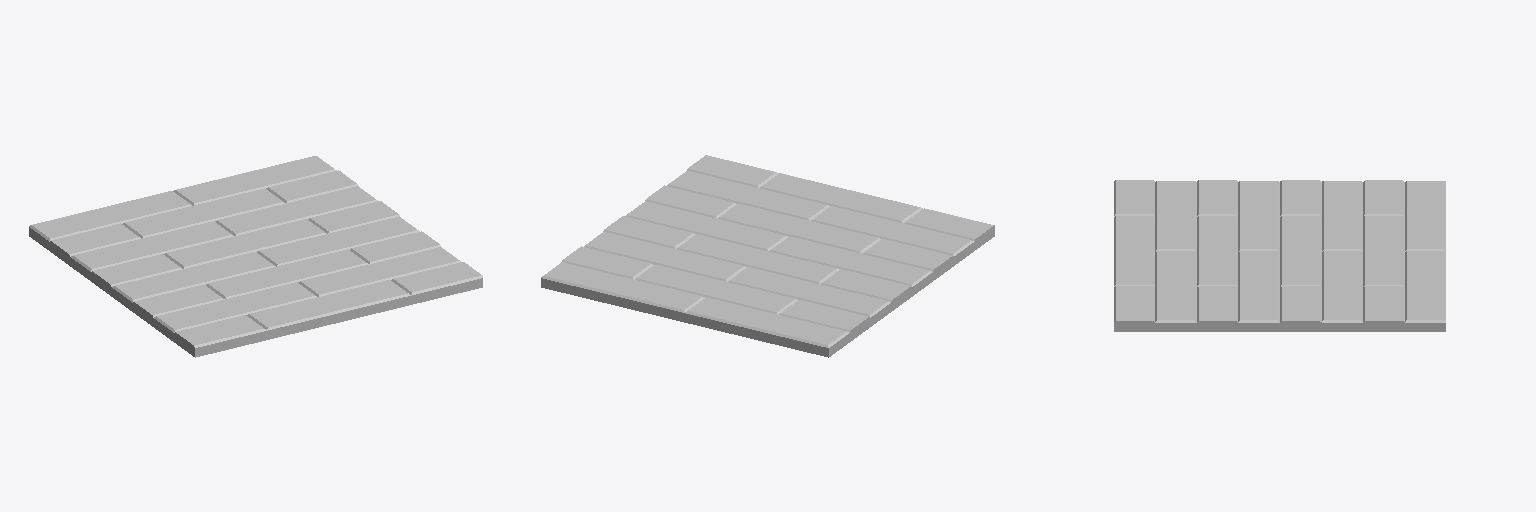
Rendered from floor_wood_large.obj.
3 views of the same model, side by side, from view 1: azimuth 30°, elevation 25°; view 2: azimuth 150°, elevation 25°; view 3: azimuth 270°, elevation 25° (orthographic).
Visible parts, largest first — view 1: floor_wood_large_Cube.15627; view 2: floor_wood_large_Cube.15627; view 3: floor_wood_large_Cube.15627.
Boxes of the visible parts, x1=… form: floor_wood_large_Cube.15627: x1=29, y1=156, x2=482, y2=357; floor_wood_large_Cube.15627: x1=541, y1=155, x2=994, y2=357; floor_wood_large_Cube.15627: x1=1114, y1=180, x2=1445, y2=331.
Size of the model in its own units: 4 by 0.15 by 4.